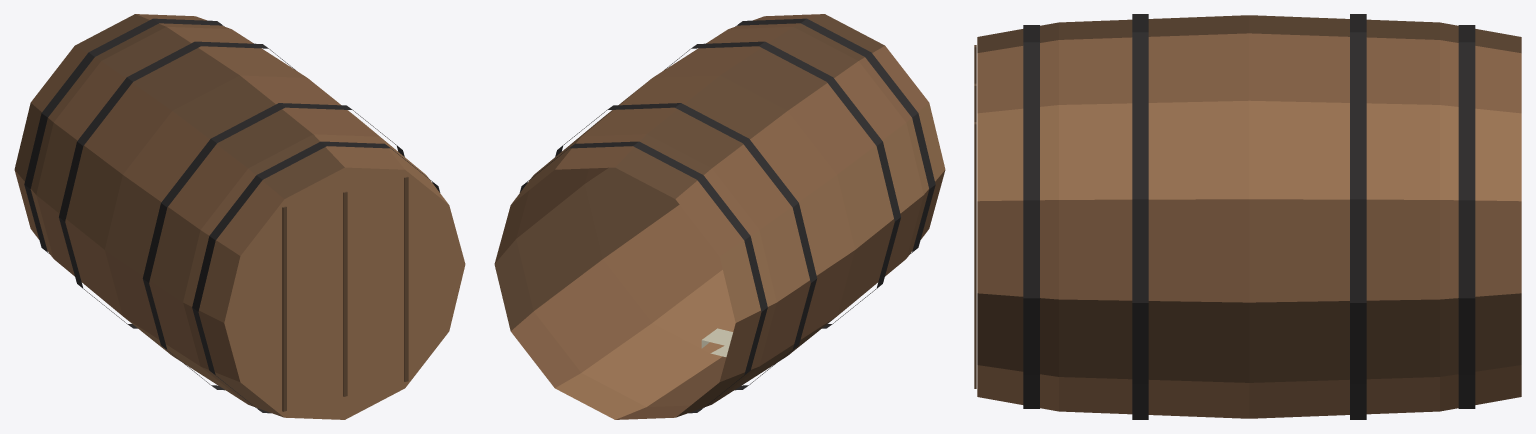
The model's file is a_barrel.obj.
The picture shows the model from 3 angles, left to right: view 1: azimuth 30°, elevation 25°; view 2: azimuth 150°, elevation 25°; view 3: azimuth 270°, elevation 25°; orthographic projection. The views are drawn at different scales.
Bounding box in the file's own units: 0.5922 × 0.5922 × 0.7948.
Materials: 1 (1 with a texture image).
